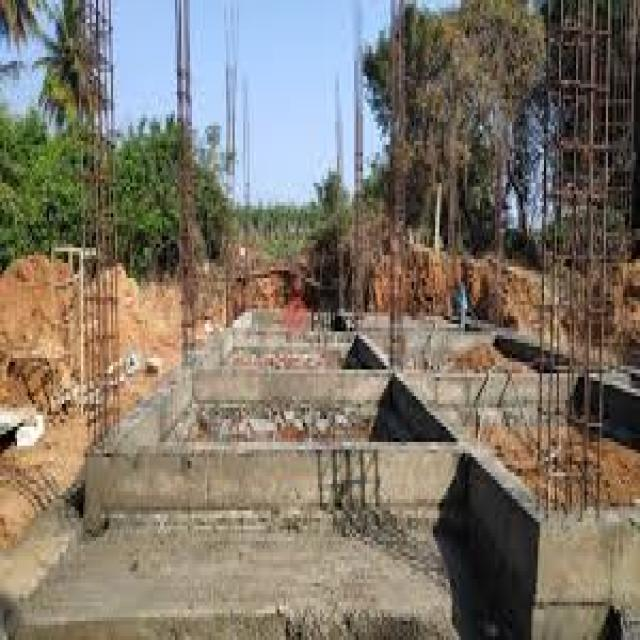Foundation: (34, 122, 640, 636)
